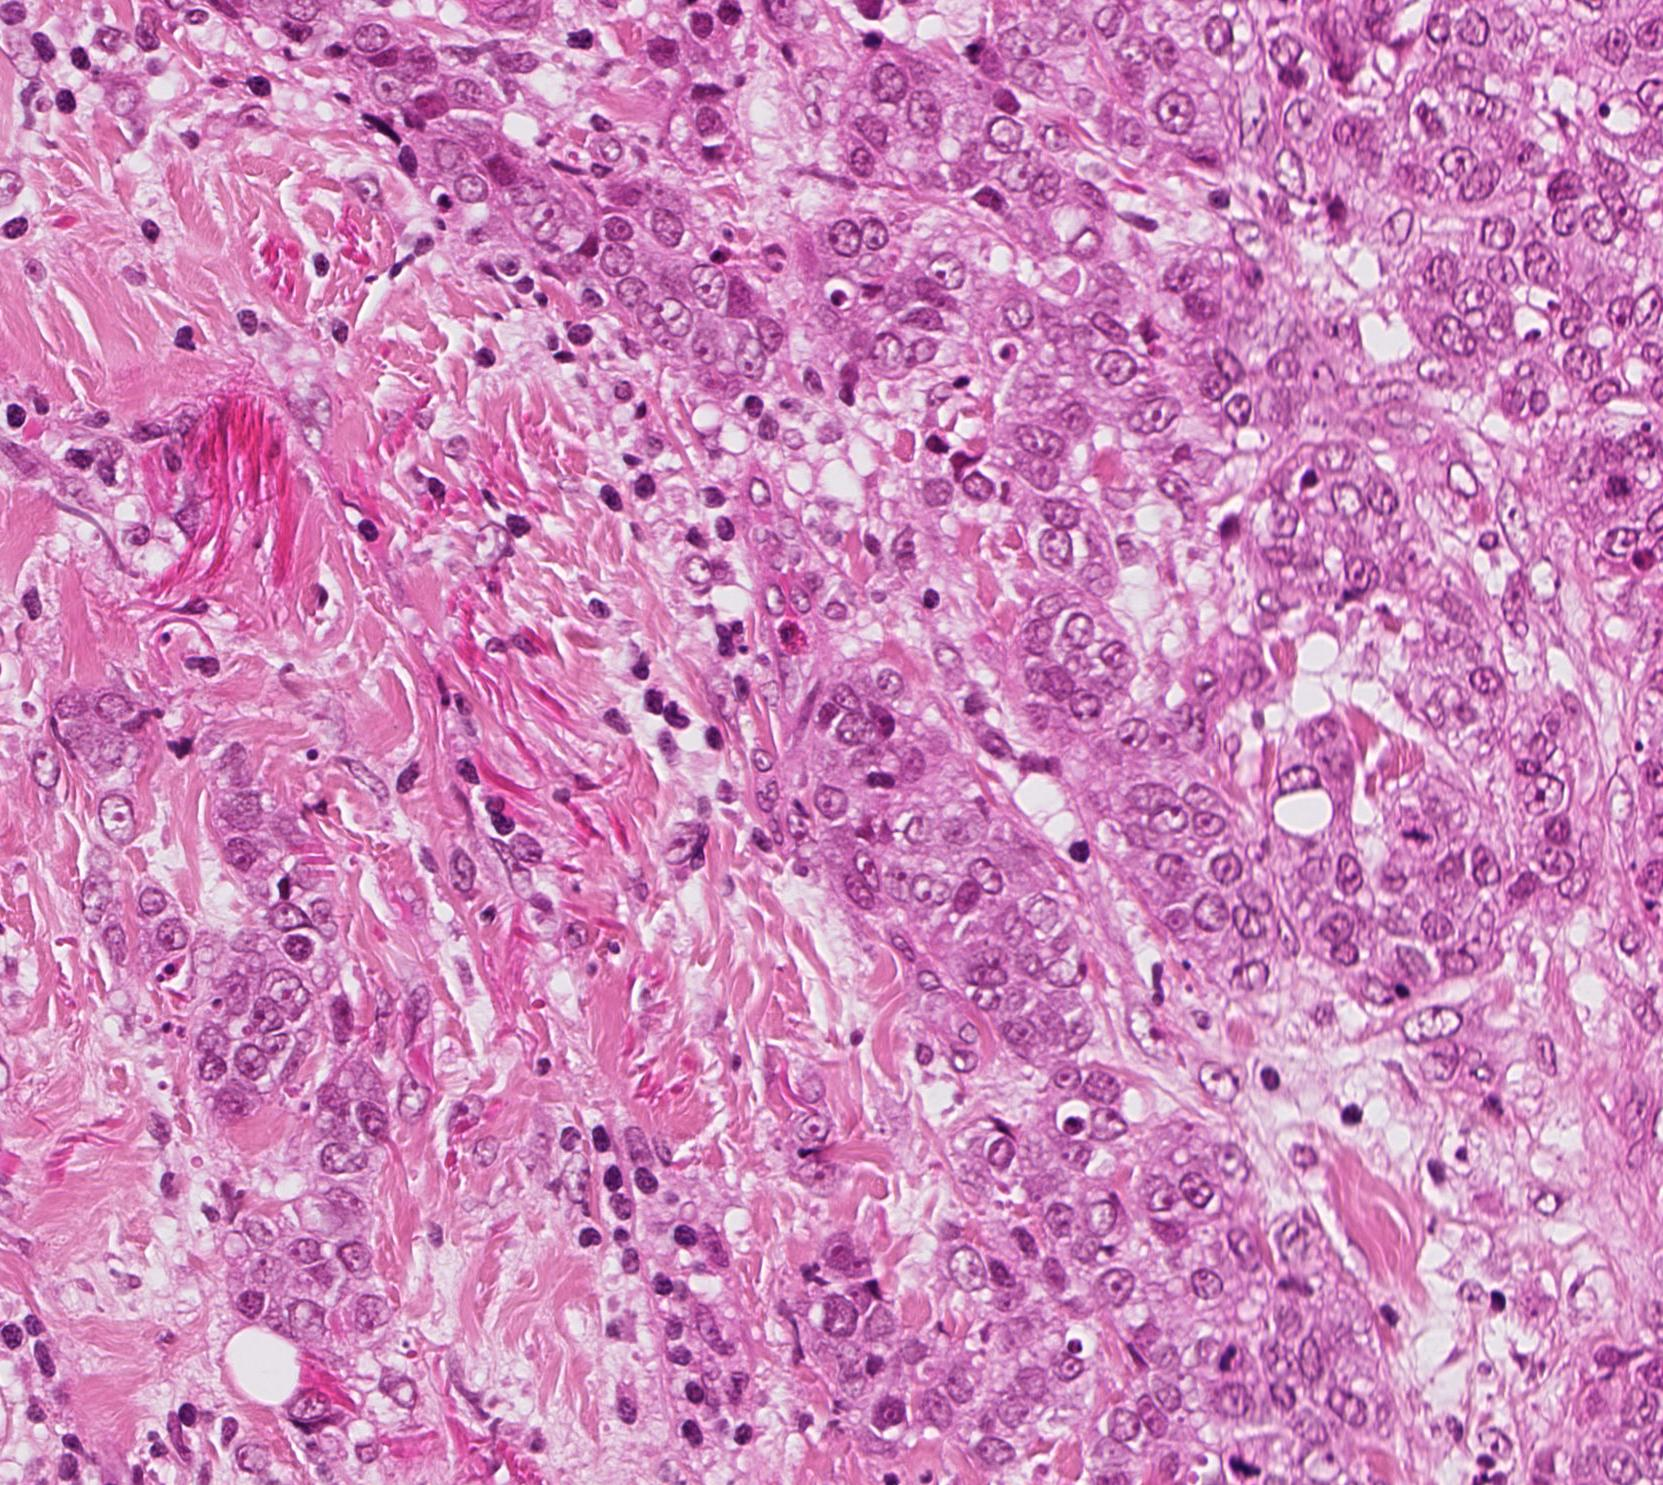mitosis: (1199, 1329, 1257, 1389), (1211, 1432, 1272, 1485)
